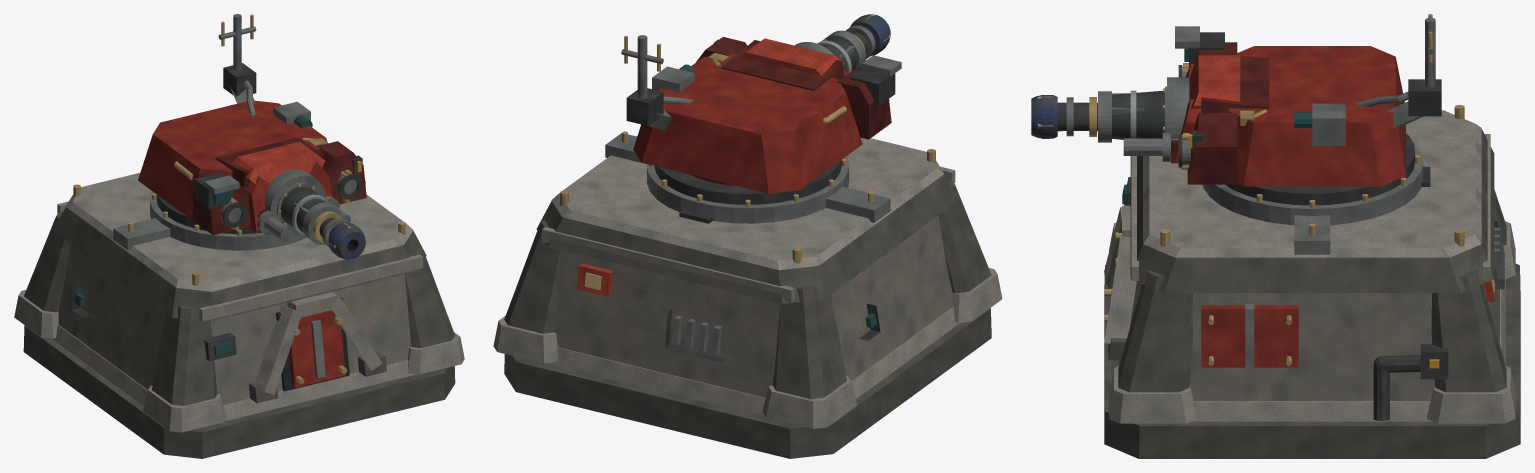
Rendered from martian_heavy_weapon_bunker_v07_textured_export.glb.
3 renders of one model, left to right at view 1: azimuth 30°, elevation 25°; view 2: azimuth 150°, elevation 25°; view 3: azimuth 270°, elevation 25°, orthographic. The views are drawn at different scales.
Visible parts, largest first — view 1: 03_monolithic_bunker_mass, 01_foundation_granular_ferrocrete, 05_top_concrete_skin, 16_martian_red_turret_armor, 04_upper_blast_cap, 06_corner_armor_buttress_WS, 02_lower_blast_raft, 53_south_slab_anchor_strip, 06_corner_armor_buttress_ES, 09_steel_service_hatch, 06_corner_armor_buttress_WN, 13_ring_lower_bearing_seat (+25 smaller); view 2: 03_monolithic_bunker_mass, 16_martian_red_turret_armor, 05_top_concrete_skin, 01_foundation_granular_ferrocrete, 04_upper_blast_cap, 02_lower_blast_raft, 06_corner_armor_buttress_WN, 13_ring_lower_bearing_seat, 06_corner_armor_buttress_EN, 06_corner_armor_buttress_WS, 14_ring_open_bearing_race, 07_corner_buttress_foot_WN (+17 smaller); view 3: 05_top_concrete_skin, 16_martian_red_turret_armor, 03_monolithic_bunker_mass, 01_foundation_granular_ferrocrete, 04_upper_blast_cap, 06_corner_armor_buttress_ES, 06_corner_armor_buttress_EN, 55_east_wall_controller_armor, 02_lower_blast_raft, 13_ring_lower_bearing_seat, 18_turret_front_cheek_E, 07_corner_buttress_foot_ES (+25 smaller).
Part boxes in pixels (left/top/right/bottom): 03_monolithic_bunker_mass: left=58, top=243, right=410, bottom=404; 01_foundation_granular_ferrocrete: left=23, top=325, right=455, bottom=458; 05_top_concrete_skin: left=65, top=173, right=413, bottom=291; 16_martian_red_turret_armor: left=138, top=100, right=327, bottom=220; 04_upper_blast_cap: left=52, top=207, right=426, bottom=321; 06_corner_armor_buttress_WS: left=152, top=305, right=217, bottom=405; 02_lower_blast_raft: left=51, top=324, right=416, bottom=421; 53_south_slab_anchor_strip: left=199, top=254, right=422, bottom=321; 06_corner_armor_buttress_ES: left=404, top=247, right=454, bottom=347; 09_steel_service_hatch: left=288, top=310, right=345, bottom=387; 06_corner_armor_buttress_WN: left=24, top=211, right=70, bottom=312; 13_ring_lower_bearing_seat: left=150, top=191, right=306, bottom=250; 03_monolithic_bunker_mass: left=554, top=215, right=952, bottom=397; 16_martian_red_turret_armor: left=633, top=53, right=862, bottom=193; 05_top_concrete_skin: left=551, top=136, right=944, bottom=270; 01_foundation_granular_ferrocrete: left=504, top=308, right=991, bottom=458; 04_upper_blast_cap: left=536, top=174, right=959, bottom=303; 02_lower_blast_raft: left=548, top=307, right=960, bottom=416; 06_corner_armor_buttress_WN: left=773, top=286, right=846, bottom=398; 13_ring_lower_bearing_seat: left=647, top=156, right=848, bottom=223; 06_corner_armor_buttress_EN: left=504, top=219, right=561, bottom=333; 06_corner_armor_buttress_WS: left=938, top=179, right=991, bottom=293; 14_ring_open_bearing_race: left=654, top=160, right=841, bottom=204; 07_corner_buttress_foot_WN: left=762, top=375, right=857, bottom=428; 05_top_concrete_skin: left=1143, top=110, right=1481, bottom=257; 16_martian_red_turret_armor: left=1228, top=46, right=1405, bottom=186; 03_monolithic_bunker_mass: left=1130, top=262, right=1499, bottom=400; 01_foundation_granular_ferrocrete: left=1104, top=263, right=1520, bottom=458; 04_upper_blast_cap: left=1130, top=129, right=1494, bottom=292; 06_corner_armor_buttress_ES: left=1118, top=270, right=1193, bottom=392; 06_corner_armor_buttress_EN: left=1431, top=270, right=1506, bottom=392; 55_east_wall_controller_armor: left=1201, top=305, right=1298, bottom=367; 02_lower_blast_raft: left=1118, top=279, right=1505, bottom=421; 13_ring_lower_bearing_seat: left=1203, top=143, right=1423, bottom=225; 18_turret_front_cheek_E: left=1187, top=113, right=1237, bottom=184; 07_corner_buttress_foot_ES: left=1109, top=366, right=1197, bottom=423.
Size of the model in its own units: 3.04 by 3.01 by 3.53.
Materials: 17 (17 with a texture image).
